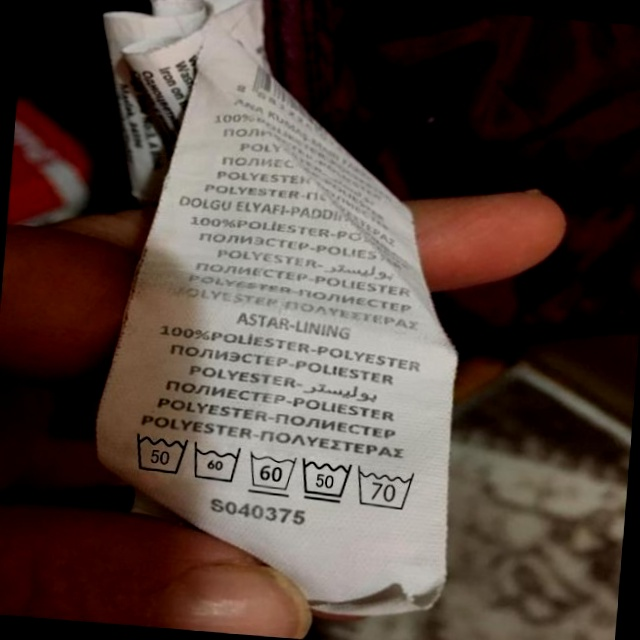50C: (127, 425, 193, 480), (296, 454, 356, 507)
60C: (245, 447, 301, 499), (188, 438, 246, 488)
70C: (354, 463, 421, 514)
